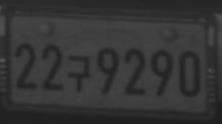0: (178, 49, 201, 97)
2: (123, 47, 146, 96), (41, 43, 64, 91), (14, 42, 37, 89)
9: (150, 48, 174, 97), (96, 47, 119, 94)
구: (67, 54, 91, 93)
